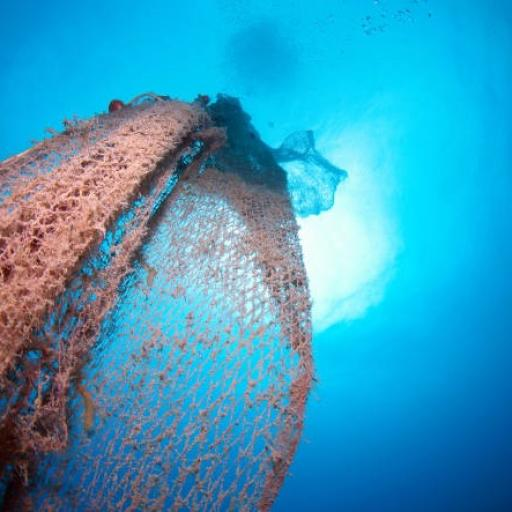net: (0, 85, 327, 512)
